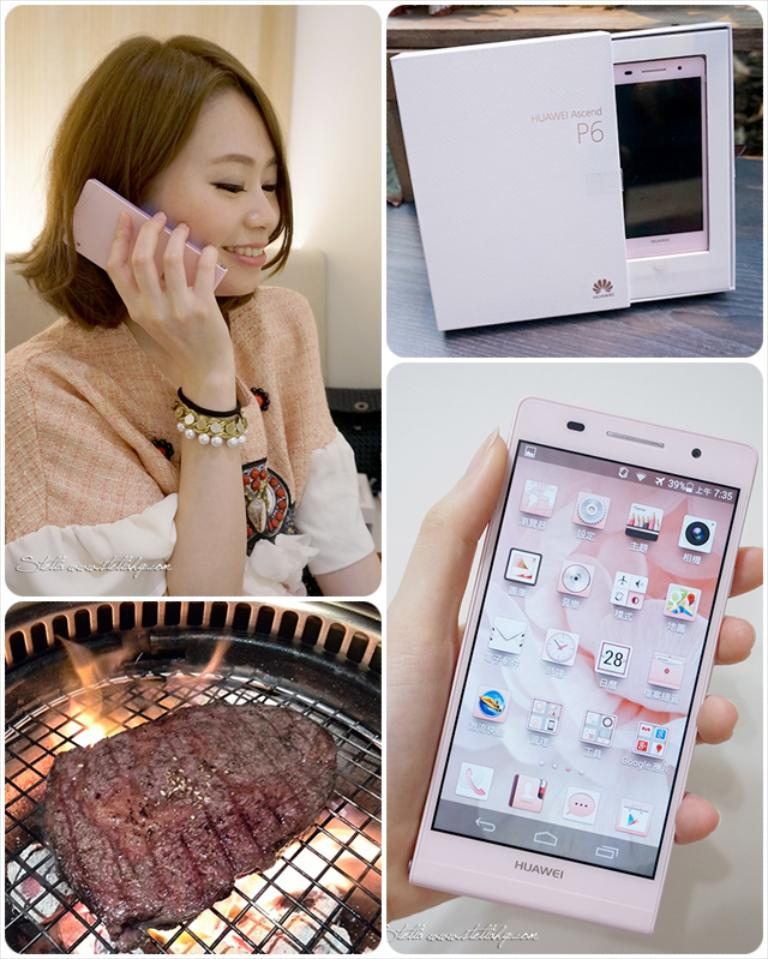Mobile-phone: (407, 398, 761, 911), (62, 178, 228, 296), (613, 50, 707, 258)
